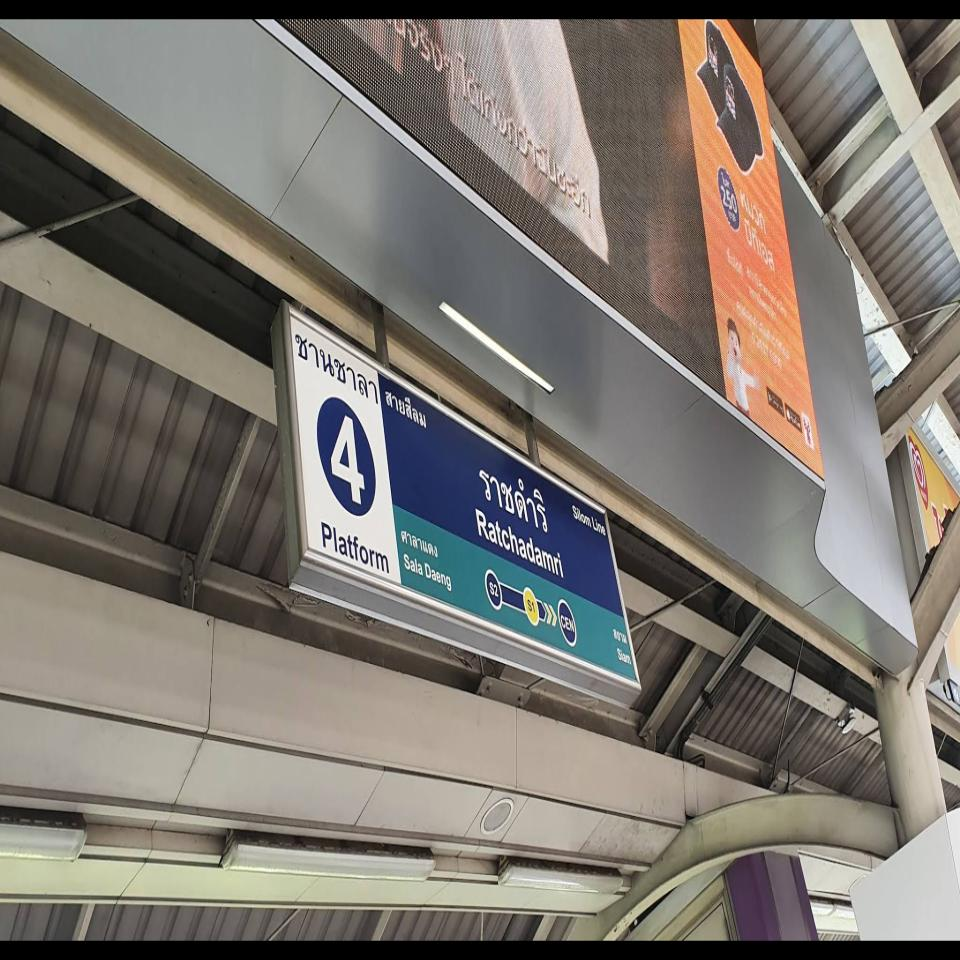signage: (475, 423, 578, 666)
